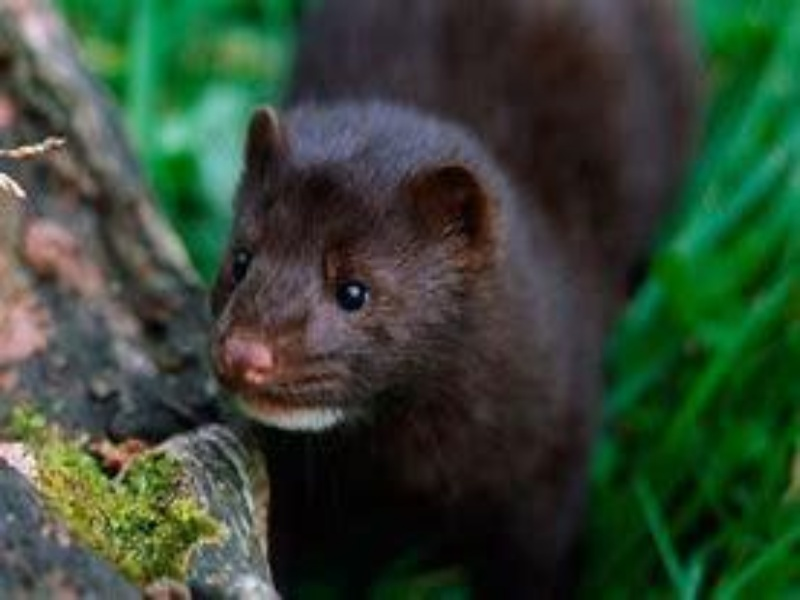minkish: (208, 6, 704, 564)
